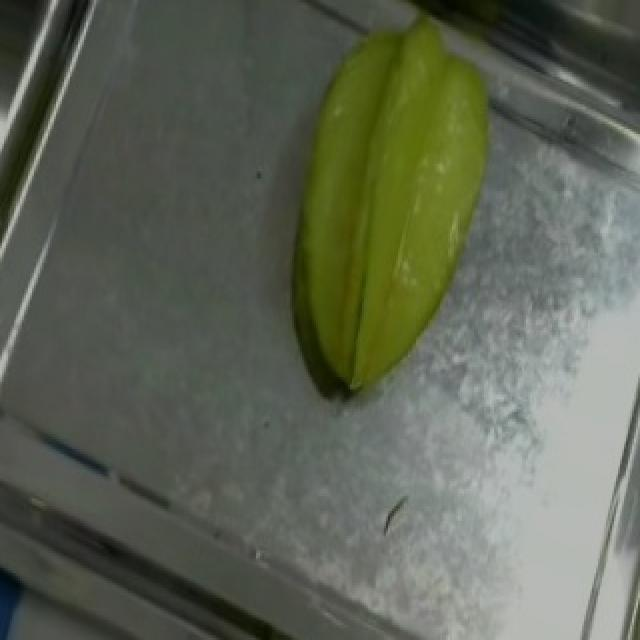fruit: (260, 2, 560, 397)
